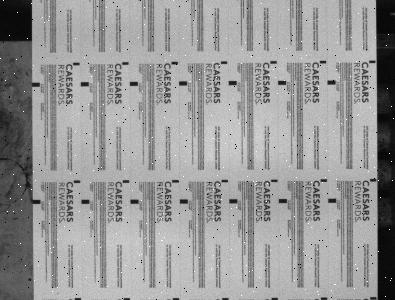qblock: (81, 199, 90, 204), (130, 199, 139, 204), (81, 81, 89, 86), (229, 80, 237, 85), (329, 198, 337, 203), (32, 82, 40, 87), (278, 80, 287, 84), (279, 199, 288, 203), (179, 81, 187, 85), (130, 81, 138, 85), (328, 80, 336, 84), (230, 199, 238, 203), (180, 199, 188, 203), (32, 200, 40, 204)
smallqblock: (221, 60, 228, 64), (222, 297, 230, 300), (271, 297, 279, 300), (73, 62, 80, 65), (74, 297, 81, 300), (173, 297, 180, 300), (123, 297, 130, 300), (321, 297, 328, 300), (371, 296, 378, 299), (320, 60, 327, 63), (222, 180, 229, 183), (321, 179, 328, 182), (74, 180, 81, 183), (172, 61, 178, 64), (272, 179, 278, 182), (123, 180, 129, 183), (370, 60, 376, 63), (173, 180, 179, 183), (371, 179, 377, 182), (122, 62, 129, 64), (271, 61, 278, 63)
